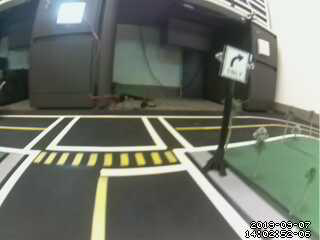Right_only_sign: (221, 43, 249, 87)
